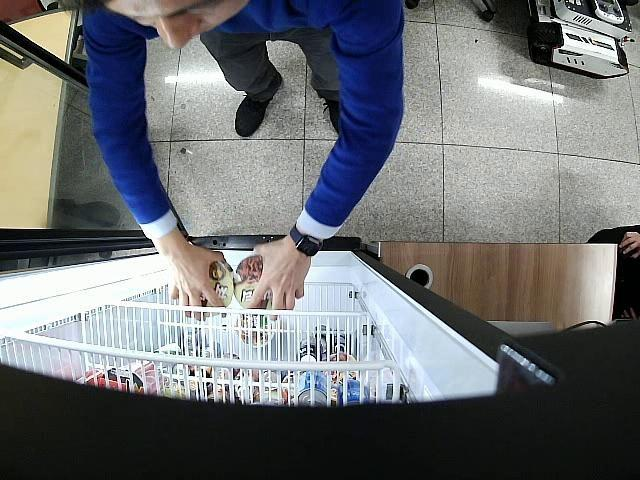03_chapagetti_L: (176, 260, 233, 318), (233, 254, 272, 308)
